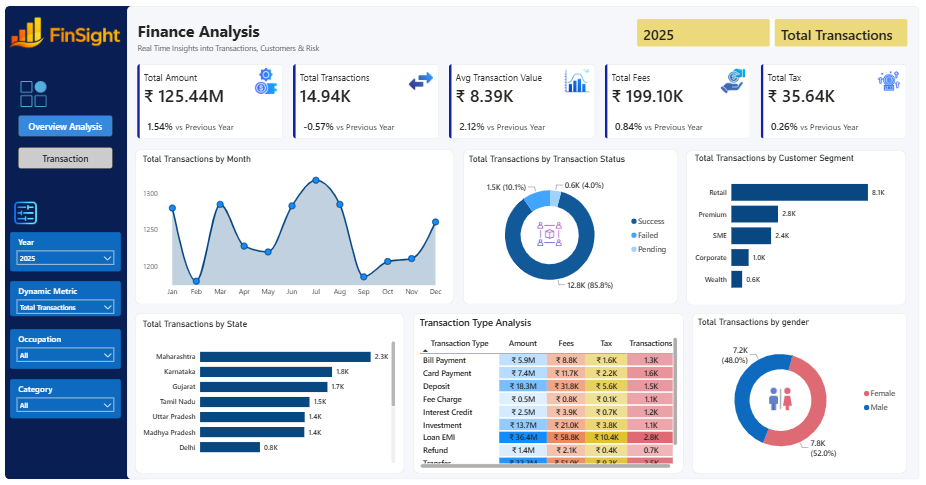

What the dashboard file says about the page in this screenshot:
{"tool":"powerbi","page":{"name":"Overview Analysis","canvas":[1800,950],"ordinal":0},"visuals":[{"type":"shape","box":[14,18,280,914],"z":0},{"type":"shape","box":[250,18,1530,914],"z":1000},{"type":"image","box":[14,18,236,104],"z":2000},{"type":"cardVisual","fields":{"Data":["finance_transactions.Dashboard Title"]},"box":[264,28,404,94],"z":3000},{"type":"cardVisual","fields":{"Data":["finance_transactions.Total Amount","finance_transactions.Total Transactions","finance_transactions.Avg Transaction Value","finance_transactions.Total Fee","finance_transactions.Total Tax"]},"box":[263.5,122.7,1500.3,156.9],"z":4000},{"type":"slicer","fields":{"Values":["Calendar Table.Year"]},"box":[23.2,453.8,213.6,76.4],"z":5000},{"type":"image","box":[491.7,136.7,50,50],"z":6000},{"type":"image","box":[792.2,136.7,50,50],"z":7000},{"type":"image","box":[1394.1,137.1,50,50],"z":8000},{"type":"image","box":[1695.6,136.7,50,50],"z":9000},{"type":"image","box":[1092.9,137.1,50,50],"z":10000},{"type":"slicer","fields":{"Values":["Dynamic Metric.Dynamic Metric"]},"box":[23.2,548.4,214.3,67.6],"z":11000},{"type":"shape","box":[264,294,615,300],"z":12000},{"type":"areaChart","fields":{"Y":["finance_transactions.Total Transactions"],"Category":["Calendar Table.Month"]},"box":[274.2,302.5,594.2,283.3],"z":13000},{"type":"cardVisual","fields":{"Data":["finance_transactions.Selected Year","finance_transactions.Selected Dynamic Measure"]},"box":[1227.6,36.8,535.5,65.8],"z":14000},{"type":"shape","box":[897.4,293.4,414.5,300],"z":15000},{"type":"donutChart","fields":{"Y":["finance_transactions.Total Transactions"],"Category":["finance_transactions.transaction_status"]},"box":[903.9,302.6,401.3,282.9],"z":16000},{"type":"shape","box":[1328.9,294.7,425,300],"z":17000},{"type":"barChart","fields":{"Y":["finance_transactions.Total Transactions"],"Category":["customers.customer_segment"]},"box":[1339.5,301.3,405.3,282.9],"z":18000},{"type":"shape","box":[265,610,520,310],"z":19000},{"type":"barChart","fields":{"Y":["finance_transactions.Total Transactions"],"Category":["customers.state"]},"box":[275,621.7,498.3,283.3],"z":20000},{"type":"shape","box":[801.2,610,522.5,310],"z":21000},{"type":"tableEx","title":"Transaction Type Analysis","fields":{"Values":["finance_transactions.transaction_type","finance_transactions.Total Amount","finance_transactions.Total Fees","finance_transactions.Total Tax","finance_transactions.Total Transactions"]},"box":[808.8,615,507.5,298.8],"z":22000},{"type":"shape","box":[1340,610,415,310],"z":23000},{"type":"donutChart","fields":{"Y":["finance_transactions.Total Transactions"],"Category":["customers.gender"]},"box":[1346.2,618.8,401.2,291.2],"z":24000},{"type":"image","box":[1035,432.5,59.9,50.2],"z":25000},{"type":"image","box":[1481,751.1,59.9,50.2],"z":26000},{"type":"slicer","fields":{"Values":["customers.occupation"]},"box":[23.2,641.1,214.3,77.2],"z":27000},{"type":"slicer","fields":{"Values":["finance_transactions.merchant_category"]},"box":[23.2,737.6,213.6,76.4],"z":28000},{"type":"image","box":[38.6,162.2,59.9,50.2],"z":29000},{"type":"pageNavigator","box":[38.6,227.8,183.4,104.3],"z":30000},{"type":"image","box":[23.2,392,59.9,50.2],"z":31000}]}

Visuals, with their boxes on the page's 1800x950 design canvas (x1, y1, x2, y2). These are canvas units, not pixel positions in the 926x485 screenshot, which may show the page scaled, cropped or inside an application window:
shape: left=14, top=18, right=294, bottom=932
shape: left=250, top=18, right=1780, bottom=932
image: left=14, top=18, right=250, bottom=122
cardVisual - finance_transactions.Dashboard Title: left=264, top=28, right=668, bottom=122
cardVisual - finance_transactions.Total Amount x finance_transactions.Total Transactions: left=264, top=123, right=1764, bottom=280
slicer - Calendar Table.Year: left=23, top=454, right=237, bottom=530
image: left=492, top=137, right=542, bottom=187
image: left=792, top=137, right=842, bottom=187
image: left=1394, top=137, right=1444, bottom=187
image: left=1696, top=137, right=1746, bottom=187
image: left=1093, top=137, right=1143, bottom=187
slicer - Dynamic Metric.Dynamic Metric: left=23, top=548, right=238, bottom=616
shape: left=264, top=294, right=879, bottom=594
areaChart - finance_transactions.Total Transactions x Calendar Table.Month: left=274, top=302, right=868, bottom=586
cardVisual - finance_transactions.Selected Year x finance_transactions.Selected Dynamic Measure: left=1228, top=37, right=1763, bottom=103
shape: left=897, top=293, right=1312, bottom=593
donutChart - finance_transactions.Total Transactions x finance_transactions.transaction_status: left=904, top=303, right=1305, bottom=586
shape: left=1329, top=295, right=1754, bottom=595
barChart - finance_transactions.Total Transactions x customers.customer_segment: left=1340, top=301, right=1745, bottom=584
shape: left=265, top=610, right=785, bottom=920
barChart - finance_transactions.Total Transactions x customers.state: left=275, top=622, right=773, bottom=905
shape: left=801, top=610, right=1324, bottom=920
"Transaction Type Analysis" tableEx: left=809, top=615, right=1316, bottom=914
shape: left=1340, top=610, right=1755, bottom=920
donutChart - finance_transactions.Total Transactions x customers.gender: left=1346, top=619, right=1747, bottom=910
image: left=1035, top=432, right=1095, bottom=483
image: left=1481, top=751, right=1541, bottom=801
slicer - customers.occupation: left=23, top=641, right=238, bottom=718
slicer - finance_transactions.merchant_category: left=23, top=738, right=237, bottom=814
image: left=39, top=162, right=98, bottom=212
pageNavigator: left=39, top=228, right=222, bottom=332
image: left=23, top=392, right=83, bottom=442
